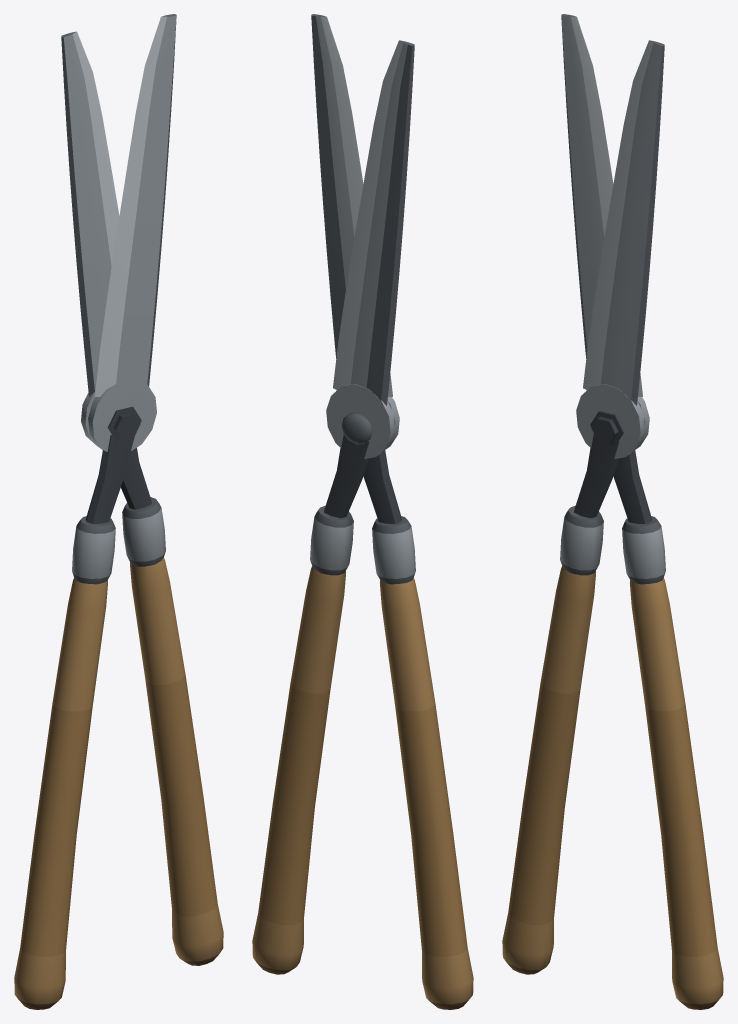
Rendered from shears.glb.
3 renders of one model, left to right at view 1: azimuth 30°, elevation 25°; view 2: azimuth 150°, elevation 25°; view 3: azimuth 330°, elevation 25°, orthographic.
Visible parts, largest first — view 1: arm_r, arm_l, pivot; view 2: arm_l, arm_r, pivot; view 3: arm_r, arm_l, pivot.
Part boxes in pixels (x1,y1,x2,y2): arm_r: [14, 14, 176, 1009]; arm_l: [61, 31, 223, 965]; pivot: [107, 406, 141, 441]; arm_l: [252, 40, 414, 974]; arm_r: [311, 14, 473, 1009]; pivot: [341, 412, 372, 444]; arm_r: [502, 40, 664, 974]; arm_l: [561, 14, 723, 1009]; pivot: [590, 411, 623, 445].
Bounding box in the file's own units: 0.138 × 0.6077 × 0.0324.
